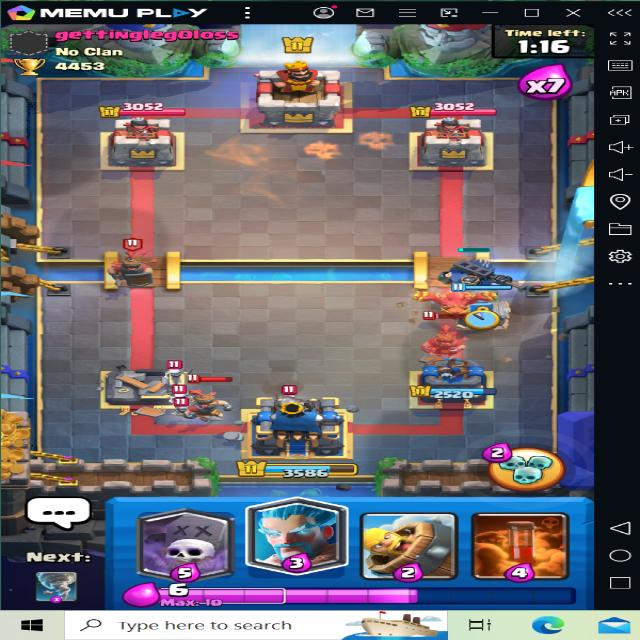royal-recruits: (412, 309, 480, 364), (105, 236, 170, 291), (177, 378, 229, 428)
skeleton: (171, 399, 198, 419), (167, 361, 189, 378)
